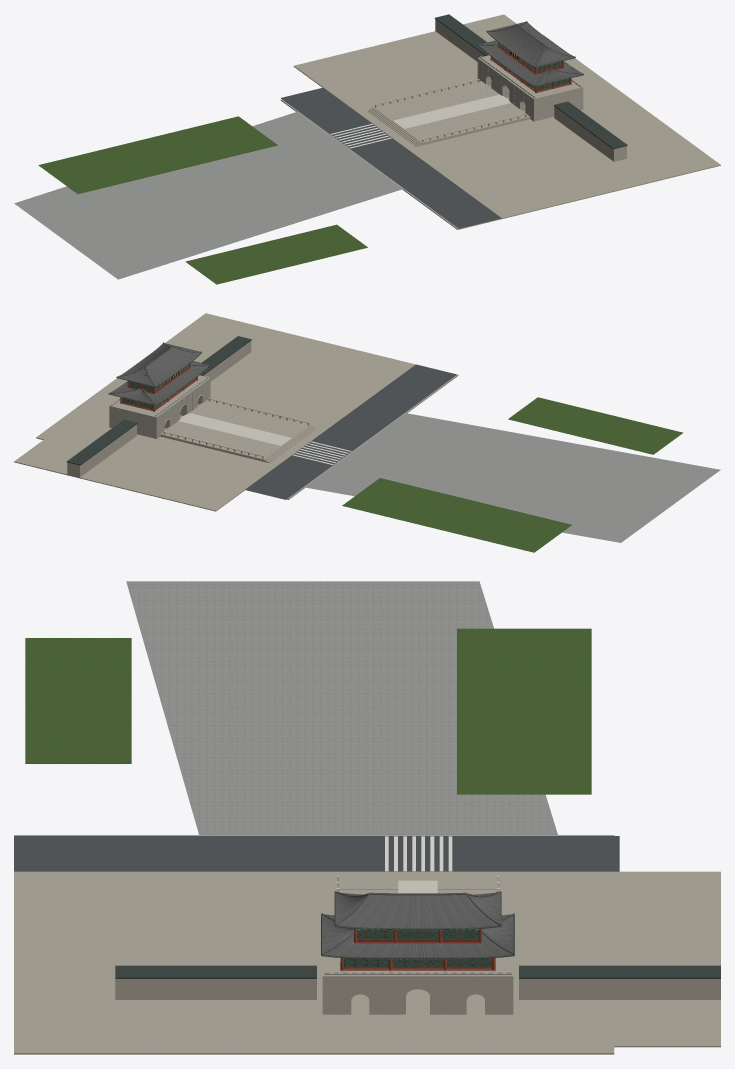
The model's file is gwanghwamun-pavilion.glb.
3 renders of one model, top to bottom at view 1: azimuth 30°, elevation 25°; view 2: azimuth 150°, elevation 25°; view 3: azimuth 270°, elevation 25°, orthographic. The views are drawn at different scales.
Parts seen in each view (by area): view 1: Gwanghwamun / northern square and front approach / Warm pale, Gwanghwamun / northern square and front approach / Hewn grey, Gwanghwamun / northern square and front approach / Yukjo law, Gwanghwamun / northern square and front approach / North roa, Gwanghwamun / Woldae stair, royal path and stone rails / War, Gwanghwamun / three vaulted stone passages / Warm pale cut s, Upper pavilion / four continuous hipped roof planes / Gwangh (×3), Lower pavilion / four continuous hipped roof planes / Gwangh (×3), Gwanghwamun / three vaulted stone passages / Dark ink cerami, Gwanghwamun / Woldae stair, royal path and stone rails / Pol, Gwanghwamun / northern square and front approach / Crosswalk; view 2: Gwanghwamun / northern square and front approach / Warm pale, Gwanghwamun / northern square and front approach / Hewn grey, Gwanghwamun / northern square and front approach / Yukjo law, Gwanghwamun / northern square and front approach / North roa, Gwanghwamun / Woldae stair, royal path and stone rails / War, Gwanghwamun / three vaulted stone passages / Warm pale cut s, Upper pavilion / four continuous hipped roof planes / Gwangh (×3), Lower pavilion / four continuous hipped roof planes / Gwangh (×3), Gwanghwamun / three vaulted stone passages / Dark ink cerami, Gwanghwamun / Woldae stair, royal path and stone rails / Pol, Gwanghwamun / northern square and front approach / Crosswalk; view 3: Gwanghwamun / northern square and front approach / Warm pale, Gwanghwamun / northern square and front approach / Hewn grey, Gwanghwamun / northern square and front approach / Yukjo law, Gwanghwamun / northern square and front approach / North roa, Gwanghwamun / three vaulted stone passages / Warm pale cut s, Upper pavilion / four continuous hipped roof planes / Gwangh (×3), Lower pavilion / four continuous hipped roof planes / Gwangh (×3), Gwanghwamun / three vaulted stone passages / Dark ink cerami, Lower pavilion / posts, recessed windows and dancheong joine (×3), Upper pavilion / posts, recessed windows and dancheong joine (×3), Gwanghwamun / Woldae stair, royal path and stone rails / War, Gwanghwamun / northern square and front approach / Crosswalk.
Boxes of the visible parts, x1=… form: Gwanghwamun / northern square and front approach / Warm pale: x1=280, y1=14, x2=720, y2=229; Gwanghwamun / northern square and front approach / Hewn grey: x1=14, y1=112, x2=402, y2=279; Gwanghwamun / northern square and front approach / Yukjo law: x1=38, y1=116, x2=367, y2=284; Gwanghwamun / northern square and front approach / North roa: x1=281, y1=87, x2=501, y2=228; Gwanghwamun / Woldae stair, royal path and stone rails / War: x1=367, y1=80, x2=530, y2=146; Gwanghwamun / three vaulted stone passages / Warm pale cut s: x1=435, y1=19, x2=626, y2=161; Upper pavilion / four continuous hipped roof planes / Gwangh (×3): x1=487, y1=22, x2=573, y2=66; Lower pavilion / four continuous hipped roof planes / Gwangh (×3): x1=479, y1=41, x2=581, y2=85; Gwanghwamun / three vaulted stone passages / Dark ink cerami: x1=434, y1=14, x2=627, y2=149; Gwanghwamun / Woldae stair, royal path and stone rails / Pol: x1=374, y1=79, x2=526, y2=139; Gwanghwamun / northern square and front approach / Crosswalk: x1=330, y1=124, x2=391, y2=148; Gwanghwamun / northern square and front approach / Warm pale: x1=14, y1=313, x2=458, y2=511; Gwanghwamun / northern square and front approach / Hewn grey: x1=305, y1=413, x2=720, y2=542; Gwanghwamun / northern square and front approach / Yukjo law: x1=342, y1=397, x2=683, y2=552; Gwanghwamun / northern square and front approach / North roa: x1=245, y1=364, x2=456, y2=499; Gwanghwamun / Woldae stair, royal path and stone rails / War: x1=160, y1=399, x2=316, y2=463; Gwanghwamun / three vaulted stone passages / Warm pale cut s: x1=67, y1=341, x2=251, y2=477; Upper pavilion / four continuous hipped roof planes / Gwangh (×3): x1=119, y1=343, x2=200, y2=385; Lower pavilion / four continuous hipped roof planes / Gwangh (×3): x1=111, y1=361, x2=208, y2=404; Gwanghwamun / three vaulted stone passages / Dark ink cerami: x1=66, y1=336, x2=251, y2=465; Gwanghwamun / Woldae stair, royal path and stone rails / Pol: x1=163, y1=398, x2=309, y2=456; Gwanghwamun / northern square and front approach / Crosswalk: x1=293, y1=441, x2=351, y2=464; Gwanghwamun / northern square and front approach / Warm pale: x1=14, y1=835, x2=720, y2=1054; Gwanghwamun / northern square and front approach / Hewn grey: x1=126, y1=581, x2=557, y2=834; Gwanghwamun / northern square and front approach / Yukjo law: x1=25, y1=628, x2=591, y2=794; Gwanghwamun / northern square and front approach / North roa: x1=14, y1=836, x2=619, y2=871; Gwanghwamun / three vaulted stone passages / Warm pale cut s: x1=115, y1=956, x2=720, y2=1014; Upper pavilion / four continuous hipped roof planes / Gwangh (×3): x1=336, y1=893, x2=500, y2=928; Lower pavilion / four continuous hipped roof planes / Gwangh (×3): x1=322, y1=915, x2=513, y2=957; Gwanghwamun / three vaulted stone passages / Dark ink cerami: x1=115, y1=965, x2=720, y2=978; Lower pavilion / posts, recessed windows and dancheong joine (×3): x1=340, y1=958, x2=495, y2=970; Upper pavilion / posts, recessed windows and dancheong joine (×3): x1=354, y1=928, x2=481, y2=943; Gwanghwamun / Woldae stair, royal path and stone rails / War: x1=334, y1=877, x2=501, y2=894; Gwanghwamun / northern square and front approach / Crosswalk: x1=385, y1=836, x2=452, y2=871.
Bounding box in the file's own units: 199 × 20.34 × 126.
28 materials, 5 textured.
